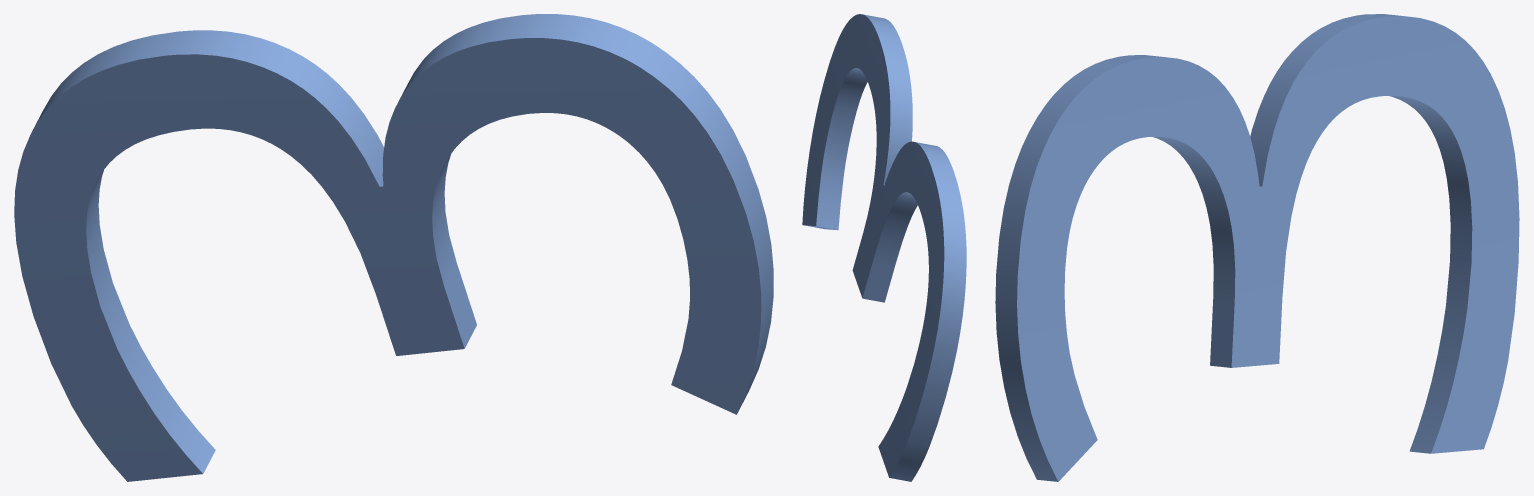
File: New_Number_3.gltf
The picture shows the model from 3 angles, left to right: view 1: azimuth 30°, elevation 25°; view 2: azimuth 150°, elevation 25°; view 3: azimuth 270°, elevation 25°; orthographic projection. The views are drawn at different scales.
Parts seen in each view (by area): view 1: Part 381; view 2: Part 381; view 3: Part 381.
Part boxes in pixels (x1,y1,x2,y2): Part 381: (14, 14, 773, 481); Part 381: (802, 14, 966, 481); Part 381: (995, 14, 1519, 481).
Bounding box in the file's own units: 0.0039 × 0.00402 × 0.00387.
